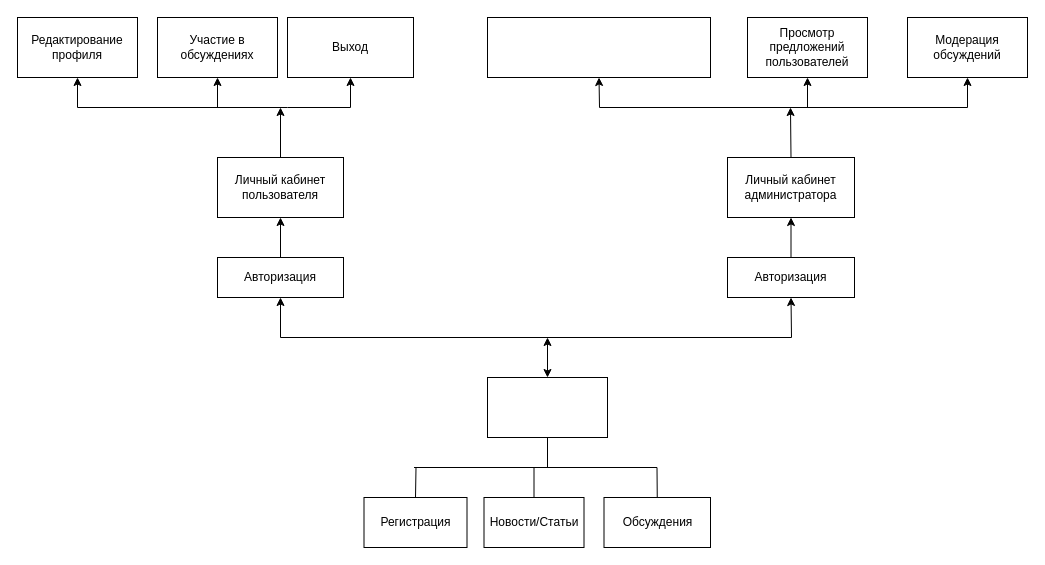
This 1045x565 diagram has some shape labels left out. The box of each missing label's shape, as (x1, y1, x2, y2) in pixels:
Добавление/удаление/редактирование статей: (486, 16, 710, 78)
Структура сайта: (486, 376, 608, 438)
